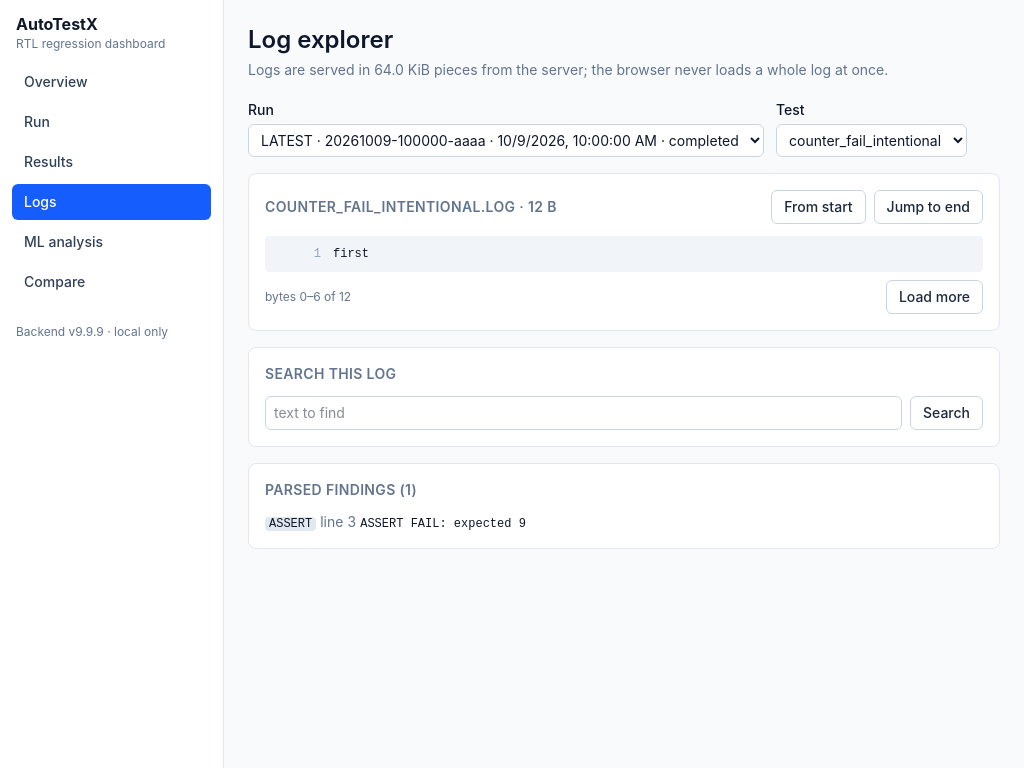
Test: Log explorer › offers Load more for large logs and appends the next chunk
Click the button "Load more". click: (934, 297)
box: [886,280,983,314]
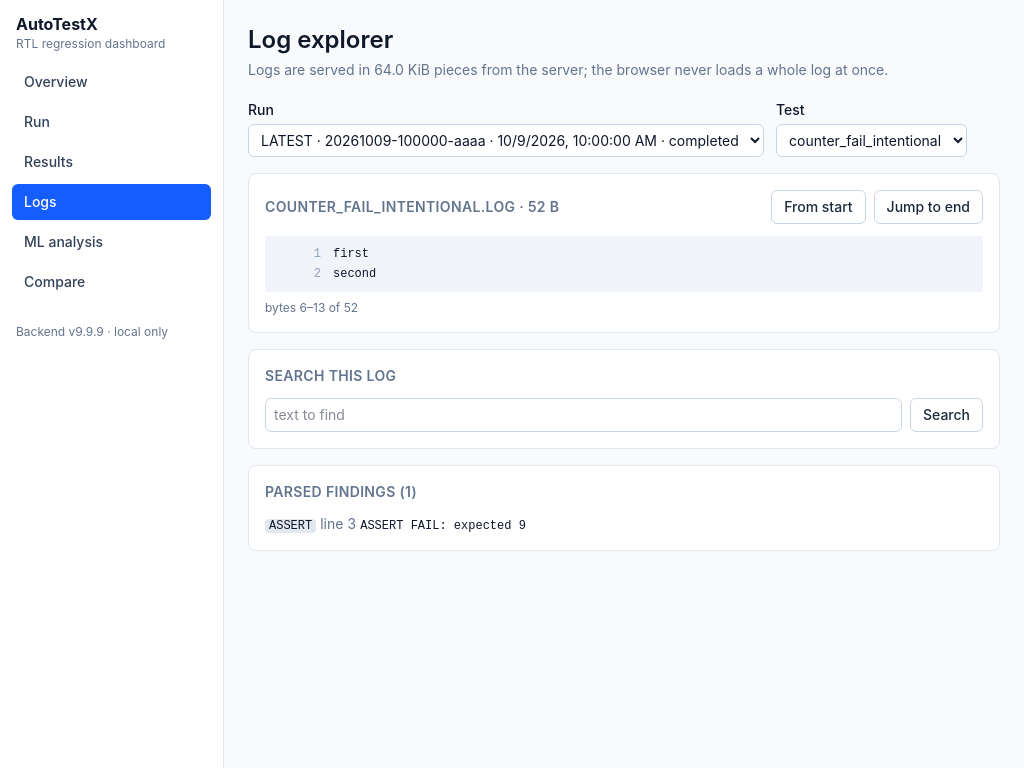
Result: the element named "Log content of" reads "1 first 2 second" at [265,236,983,292]
